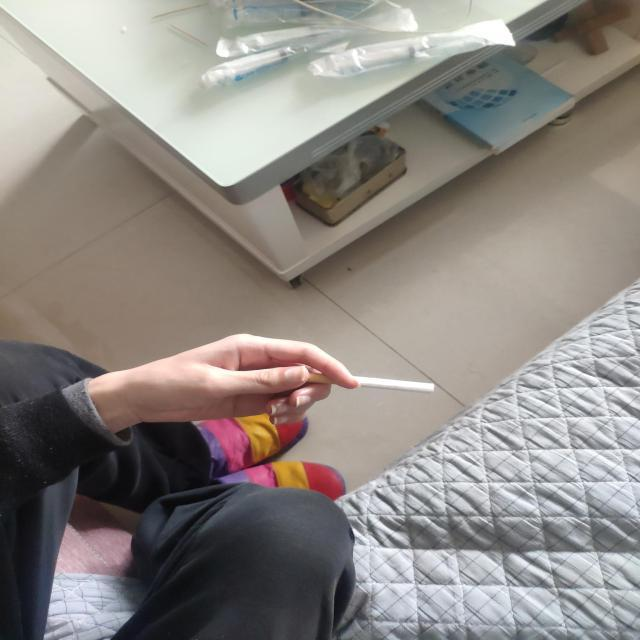smoking: (299, 373, 436, 393)
